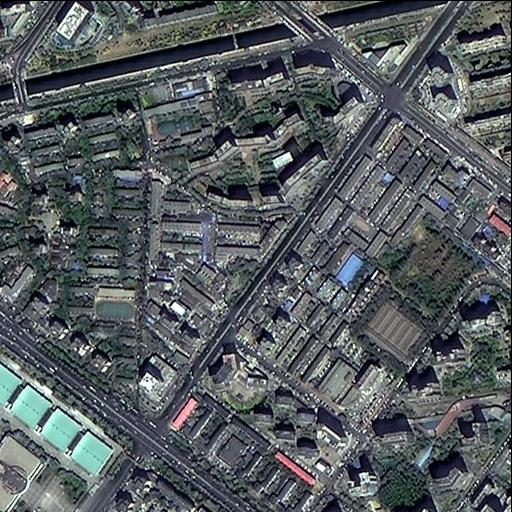school: (133, 71, 219, 151), (91, 286, 139, 325)
